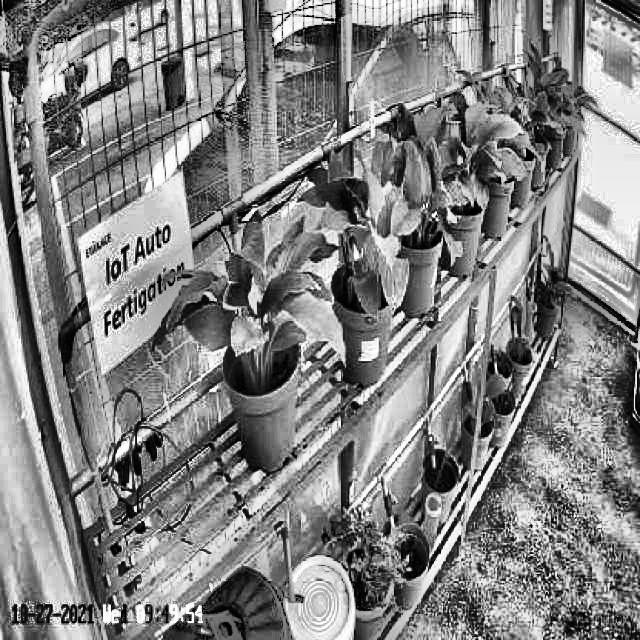plants: (152, 208, 346, 390), (302, 156, 411, 329), (370, 103, 464, 274), (426, 80, 528, 205)
